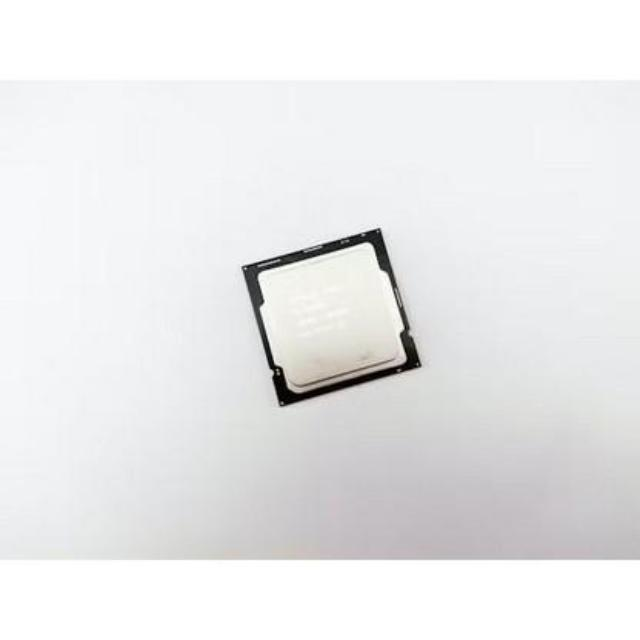CPU: (239, 226, 424, 409)
